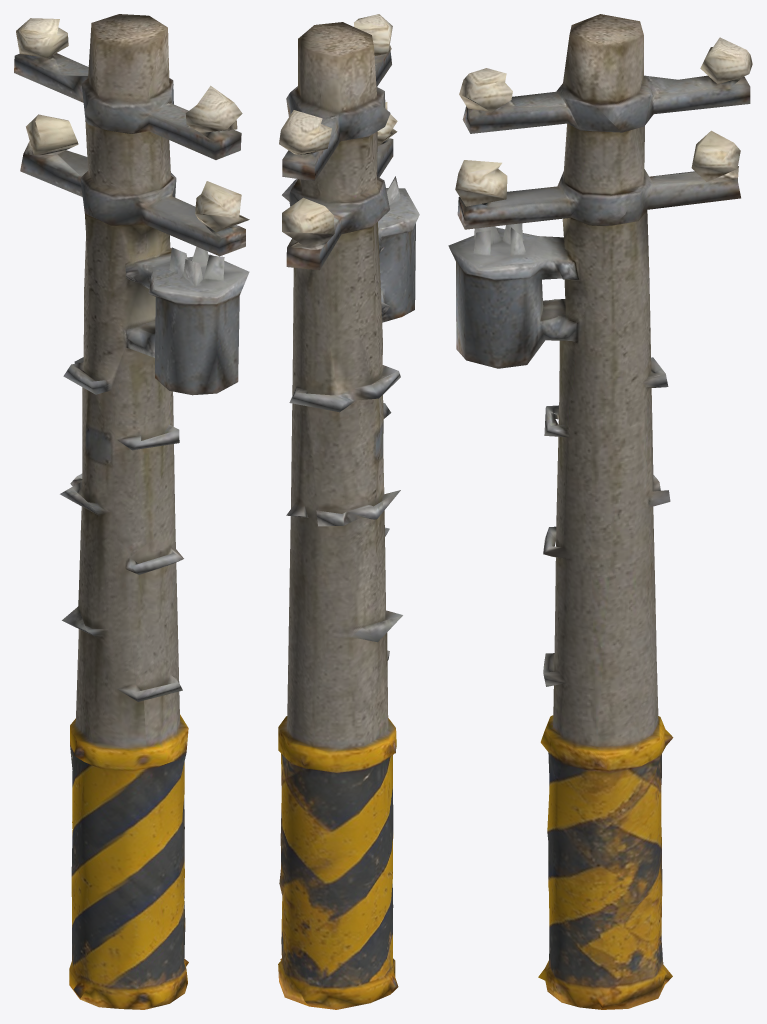
Rendered from utility_pole.glb.
3 views of the same model, side by side, from view 1: azimuth 30°, elevation 25°; view 2: azimuth 150°, elevation 25°; view 3: azimuth 270°, elevation 25° (orthographic).
Visible parts, largest first — view 1: utility_pole; view 2: utility_pole; view 3: utility_pole.
Boxes of the visible parts, box(x1,y1,x2,y2) form: utility_pole: box(14, 14, 249, 1009); utility_pole: box(278, 14, 419, 1009); utility_pole: box(448, 14, 752, 1009).
Size of the model in its own units: 1.02 by 8 by 2.31.
1 material, 1 textured.
